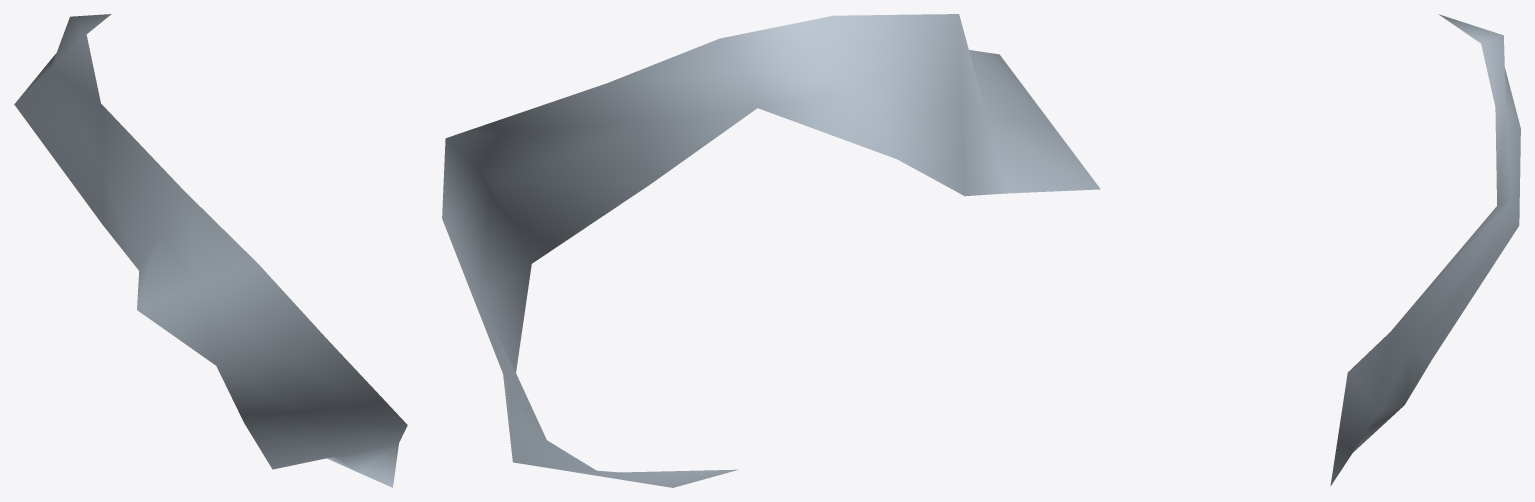
The model's file is articular-capsule-of-superior-tibiofibular-joint-r.glb.
3 views of the same model, side by side, from view 1: azimuth 30°, elevation 25°; view 2: azimuth 150°, elevation 25°; view 3: azimuth 270°, elevation 25° (orthographic). The views are drawn at different scales.
Parts seen in each view (by area): view 1: Articular capsule of superior tibiofibular joint.r; view 2: Articular capsule of superior tibiofibular joint.r; view 3: Articular capsule of superior tibiofibular joint.r.
Boxes of the visible parts, bbox=[...] form: Articular capsule of superior tibiofibular joint.r: bbox=[14, 14, 407, 487]; Articular capsule of superior tibiofibular joint.r: bbox=[442, 14, 1100, 487]; Articular capsule of superior tibiofibular joint.r: bbox=[1330, 14, 1520, 486].
Size of the model in its own units: 0.0232 by 0.0279 by 0.0258.
